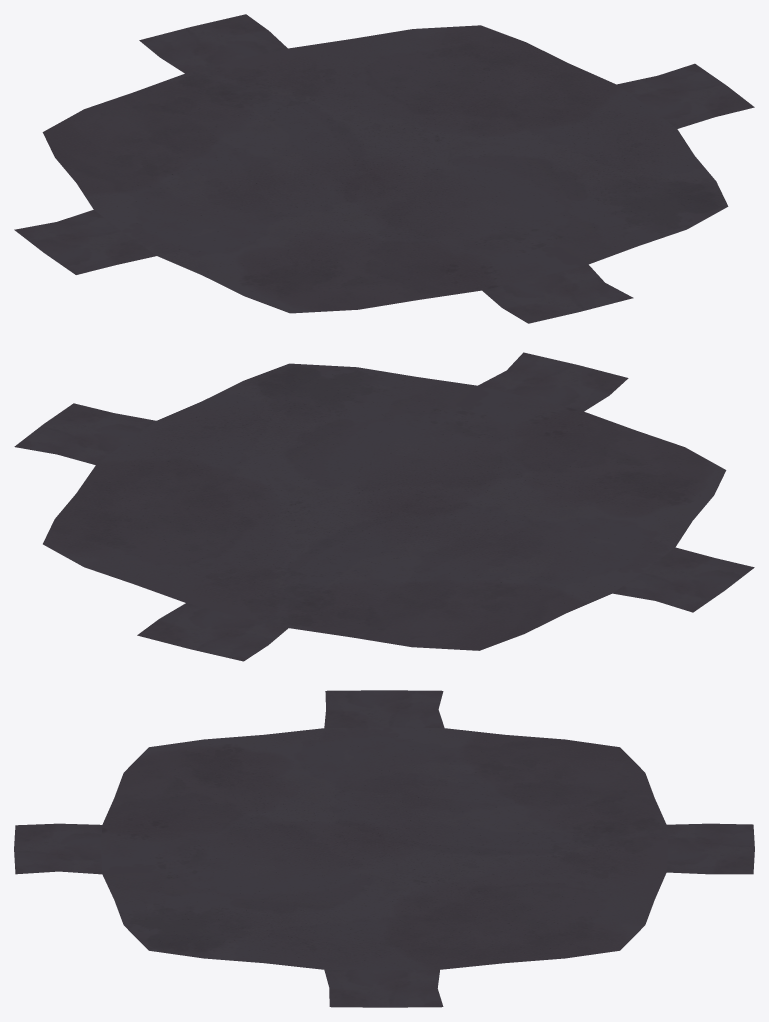
Rendered from small_plane.fbx.
3 renders of one model, top to bottom at view 1: azimuth 30°, elevation 25°; view 2: azimuth 150°, elevation 25°; view 3: azimuth 270°, elevation 25°, orthographic. The views are drawn at different scales.
Visible parts, largest first — view 1: Small Ground, Small Ground.003, Small Ground.002, Small Ground.001, Small Ground.004; view 2: Small Ground, Small Ground.003, Small Ground.002, Small Ground.001, Small Ground.004; view 3: Small Ground, Small Ground.003, Small Ground.002, Small Ground.001, Small Ground.004.
Part boxes in pixels (<box>): Small Ground: <box>42,25,728,313</box>; Small Ground.003: <box>139,14,287,73</box>; Small Ground.002: <box>14,210,156,274</box>; Small Ground.001: <box>482,264,633,323</box>; Small Ground.004: <box>617,63,754,128</box>; Small Ground: <box>43,363,726,650</box>; Small Ground.003: <box>137,603,288,661</box>; Small Ground.002: <box>613,547,754,612</box>; Small Ground.001: <box>478,352,628,411</box>; Small Ground.004: <box>14,403,156,464</box>; Small Ground: <box>101,727,667,970</box>; Small Ground.003: <box>666,823,754,874</box>; Small Ground.002: <box>324,690,444,727</box>; Small Ground.001: <box>14,823,102,874</box>; Small Ground.004: <box>324,970,443,1007</box>.
Bounding box in the file's own units: 2340 × 0.000376 × 2308.
